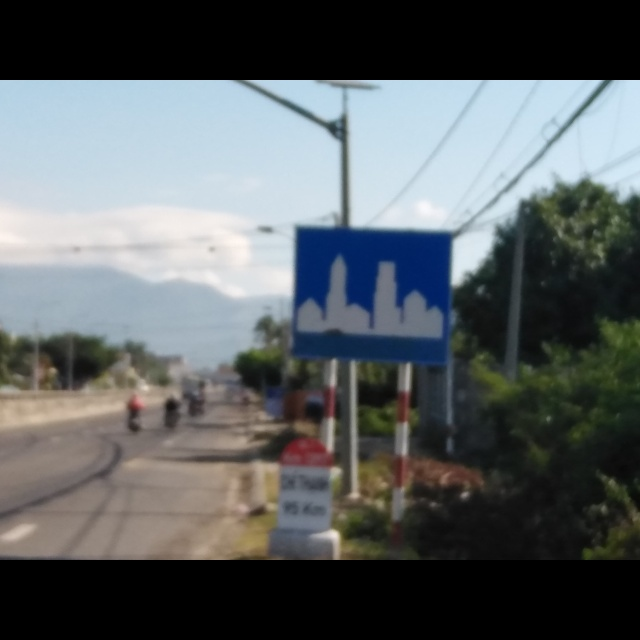Khu đông dân cư: (288, 221, 454, 369)
